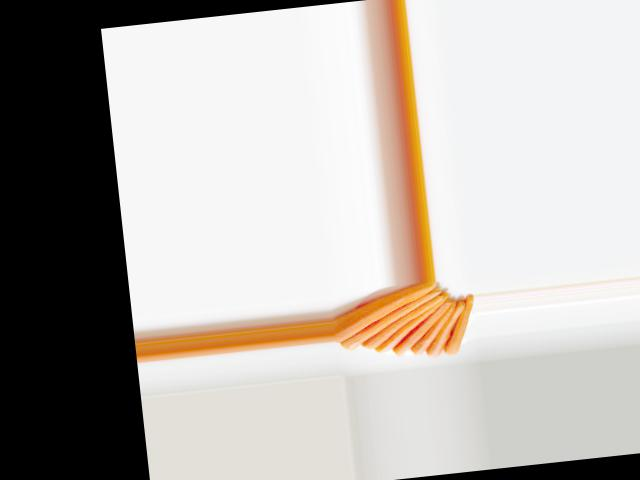carrot: (330, 282, 439, 340)
